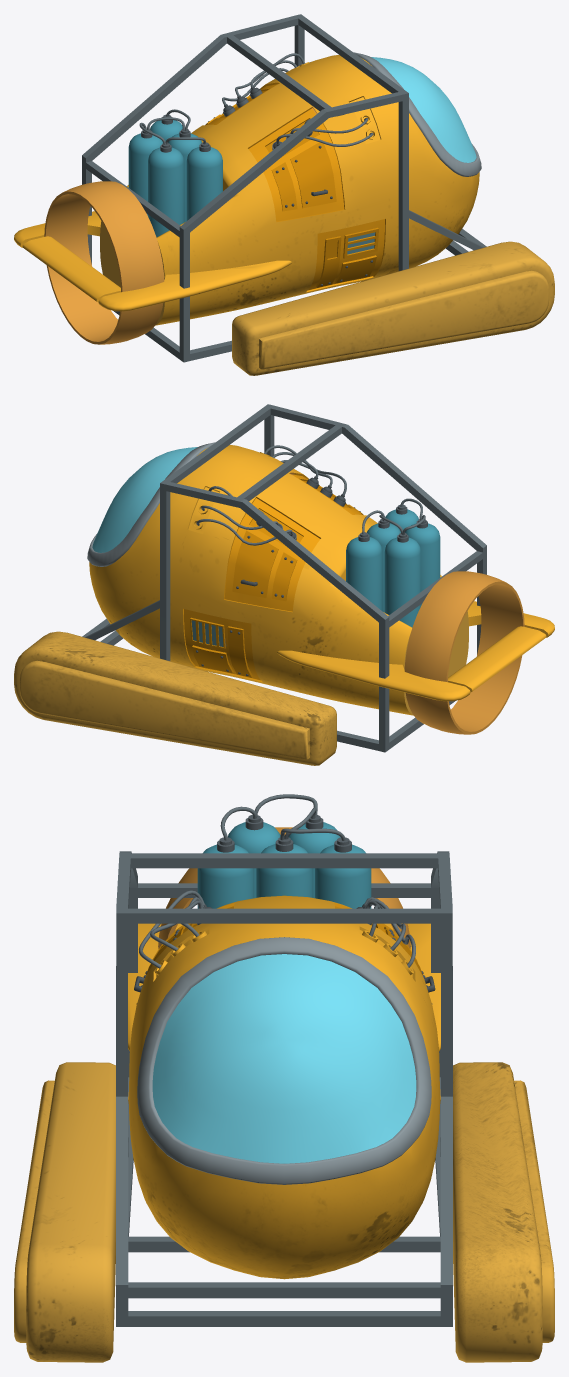
3 views of the same model, one above another, from view 1: azimuth 30°, elevation 25°; view 2: azimuth 150°, elevation 25°; view 3: azimuth 270°, elevation 25° (orthographic). The views are drawn at different scales.
Visible parts, largest first — view 1: Sub00b; view 2: Sub00b; view 3: Sub00b.
Part boxes in pixels (left/top/right/bottom): Sub00b: left=14, top=14, right=554, bottom=375; Sub00b: left=14, top=404, right=554, bottom=765; Sub00b: left=14, top=794, right=554, bottom=1362.
Size of the model in its own units: 3.1 by 1.71 by 2.24.
